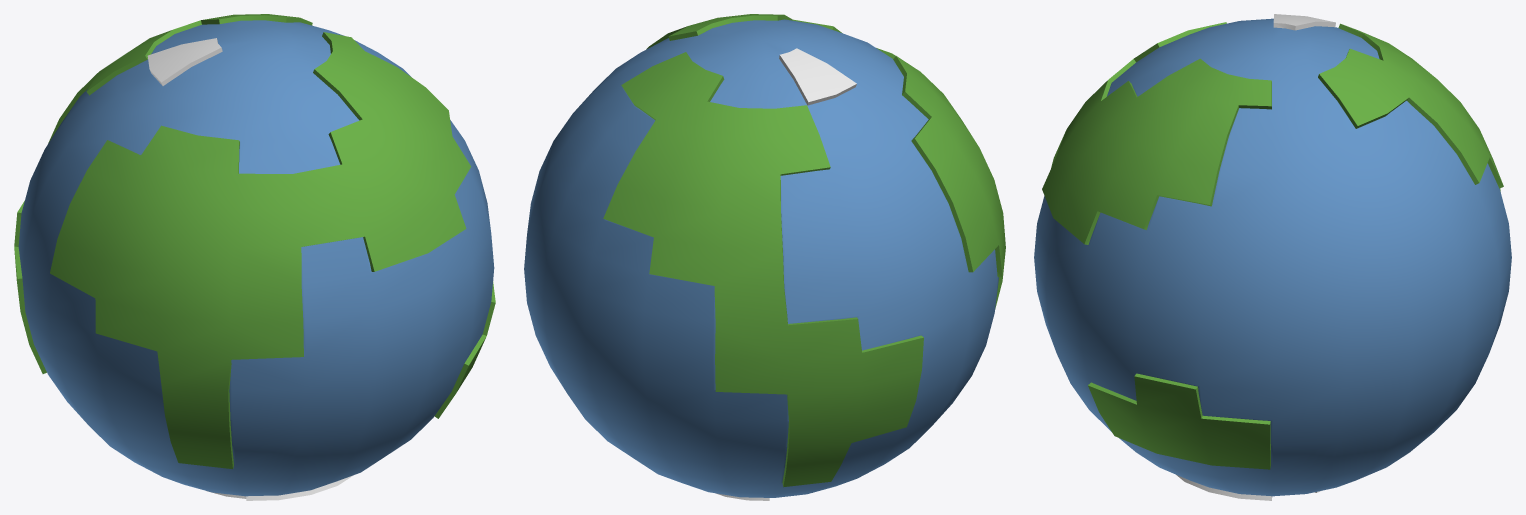
Rendered from Earth_Icon_v01.fbx.
3 renders of one model, left to right at view 1: azimuth 30°, elevation 25°; view 2: azimuth 150°, elevation 25°; view 3: azimuth 270°, elevation 25°, orthographic.
Parts seen in each view (by area): view 1: Earth_Green; view 2: Earth_Green; view 3: Earth_Green.
Part boxes in pixels (bbox=[...]): Earth_Green: bbox=[14, 14, 495, 500]; Earth_Green: bbox=[524, 14, 1005, 500]; Earth_Green: bbox=[1034, 14, 1511, 500].
Bounding box in the file's own units: 2.15 × 2.17 × 2.14.
